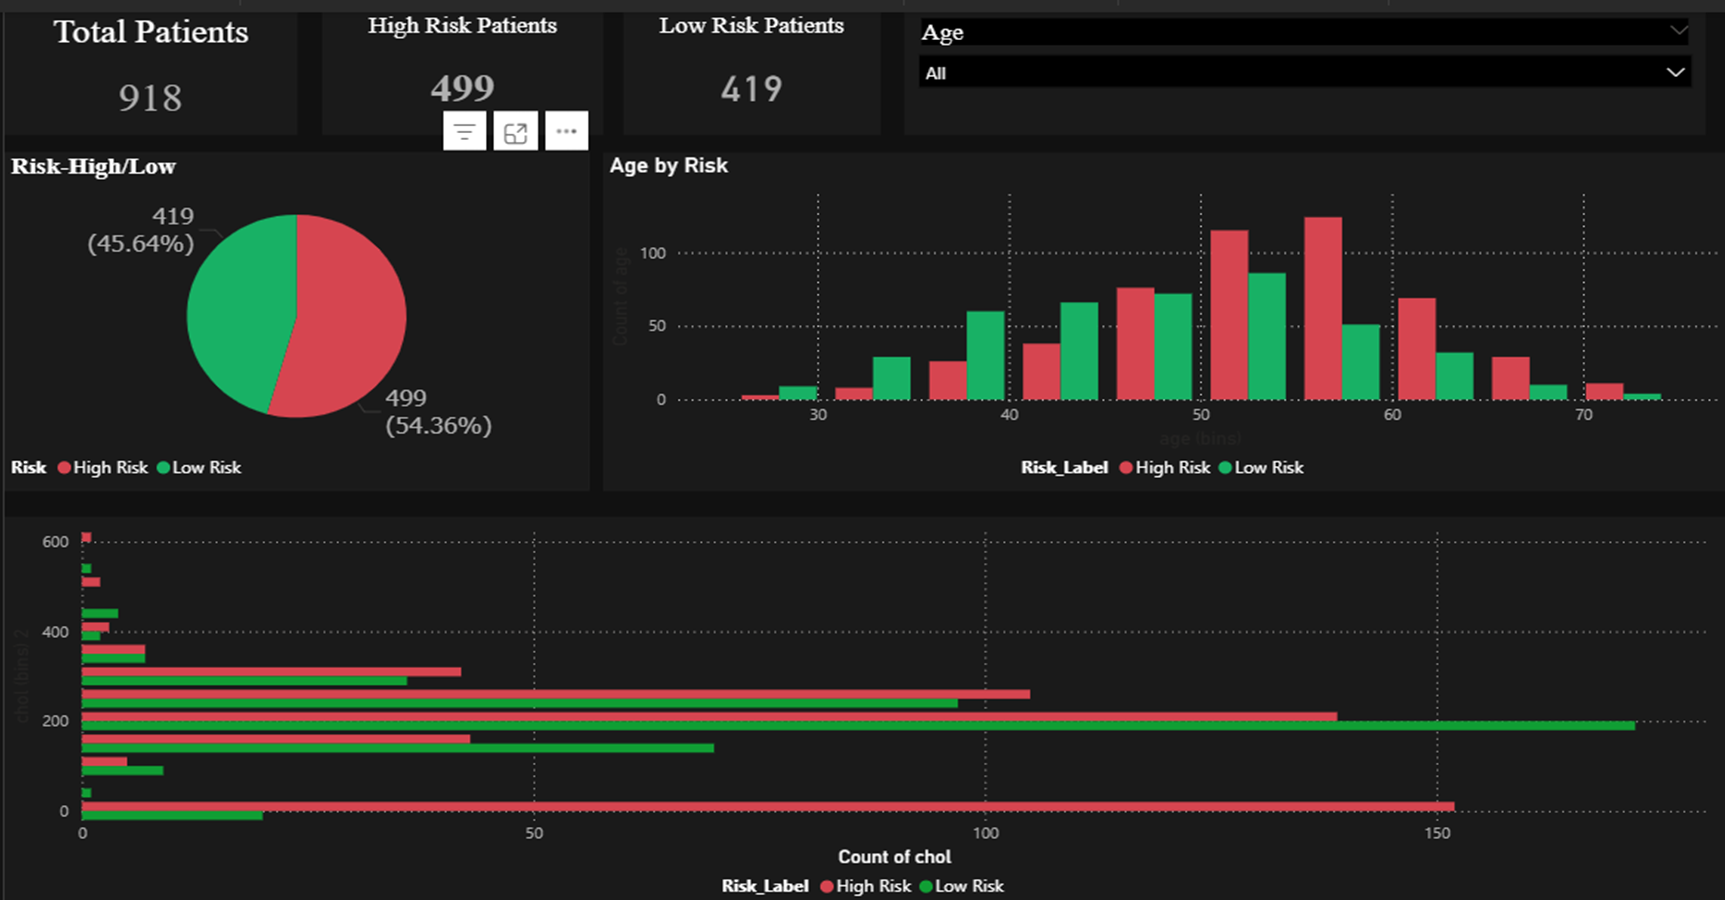

This screenshot's page, from the dashboard's own definition file:
{"tool":"powerbi","page":{"name":"Dashboard","canvas":[1280,720],"ordinal":1},"visuals":[{"type":"card","title":"Total Patients","fields":{"Values":["CountNonNull(ml_predictions.age)"]},"box":[0,0,217.9,98.5],"z":0},{"type":"card","title":"High Risk Patients ","fields":{"Values":["CountNonNull(ml_predictions.Risk)"]},"box":[235.8,0,209,98.5],"z":1000},{"type":"card","title":"Low Risk Patients ","fields":{"Values":["CountNonNull(ml_predictions.Risk)"]},"box":[459.7,0,191,98.5],"z":2000},{"type":"pieChart","title":"Risk-High/Low","fields":{"Category":["ml_predictions.Risk_Label"],"Y":["CountNonNull(ml_predictions.Risk_Label)"]},"box":[0,111.9,434.3,271.6],"z":3000},{"type":"clusteredColumnChart","title":" Age by Risk","fields":{"Category":["ml_predictions.age (bins)"],"Y":["CountNonNull(ml_predictions.age)"],"Series":["ml_predictions.Risk_Label"]},"box":[444.8,111.9,835.8,271.6],"z":4000},{"type":"clusteredBarChart","fields":{"Series":["ml_predictions.Risk_Label"],"Y":["CountNonNull(ml_predictions.chol)"],"Category":["ml_predictions.chol (bins) 2"]},"box":[0,404.3,1280,315.7],"z":5000},{"type":"slicer","fields":{"Values":["ml_predictions.age"]},"box":[668.7,0,595.5,98.5],"z":6000}]}

Visuals, with their boxes on the page's 1280x720 design canvas (x1, y1, x2, y2). These are canvas units, not pixel positions in the 1725x900 screenshot, which may show the page scaled, cropped or inside an application window:
"Total Patients" card: l=0, t=0, r=218, b=98
"High Risk Patients " card: l=236, t=0, r=445, b=98
"Low Risk Patients " card: l=460, t=0, r=651, b=98
"Risk-High/Low" pieChart: l=0, t=112, r=434, b=384
" Age by Risk" clusteredColumnChart: l=445, t=112, r=1281, b=384
clusteredBarChart - ml_predictions.Risk_Label x CountNonNull(ml_predictions.chol): l=0, t=404, r=1280, b=720
slicer - ml_predictions.age: l=669, t=0, r=1264, b=98
